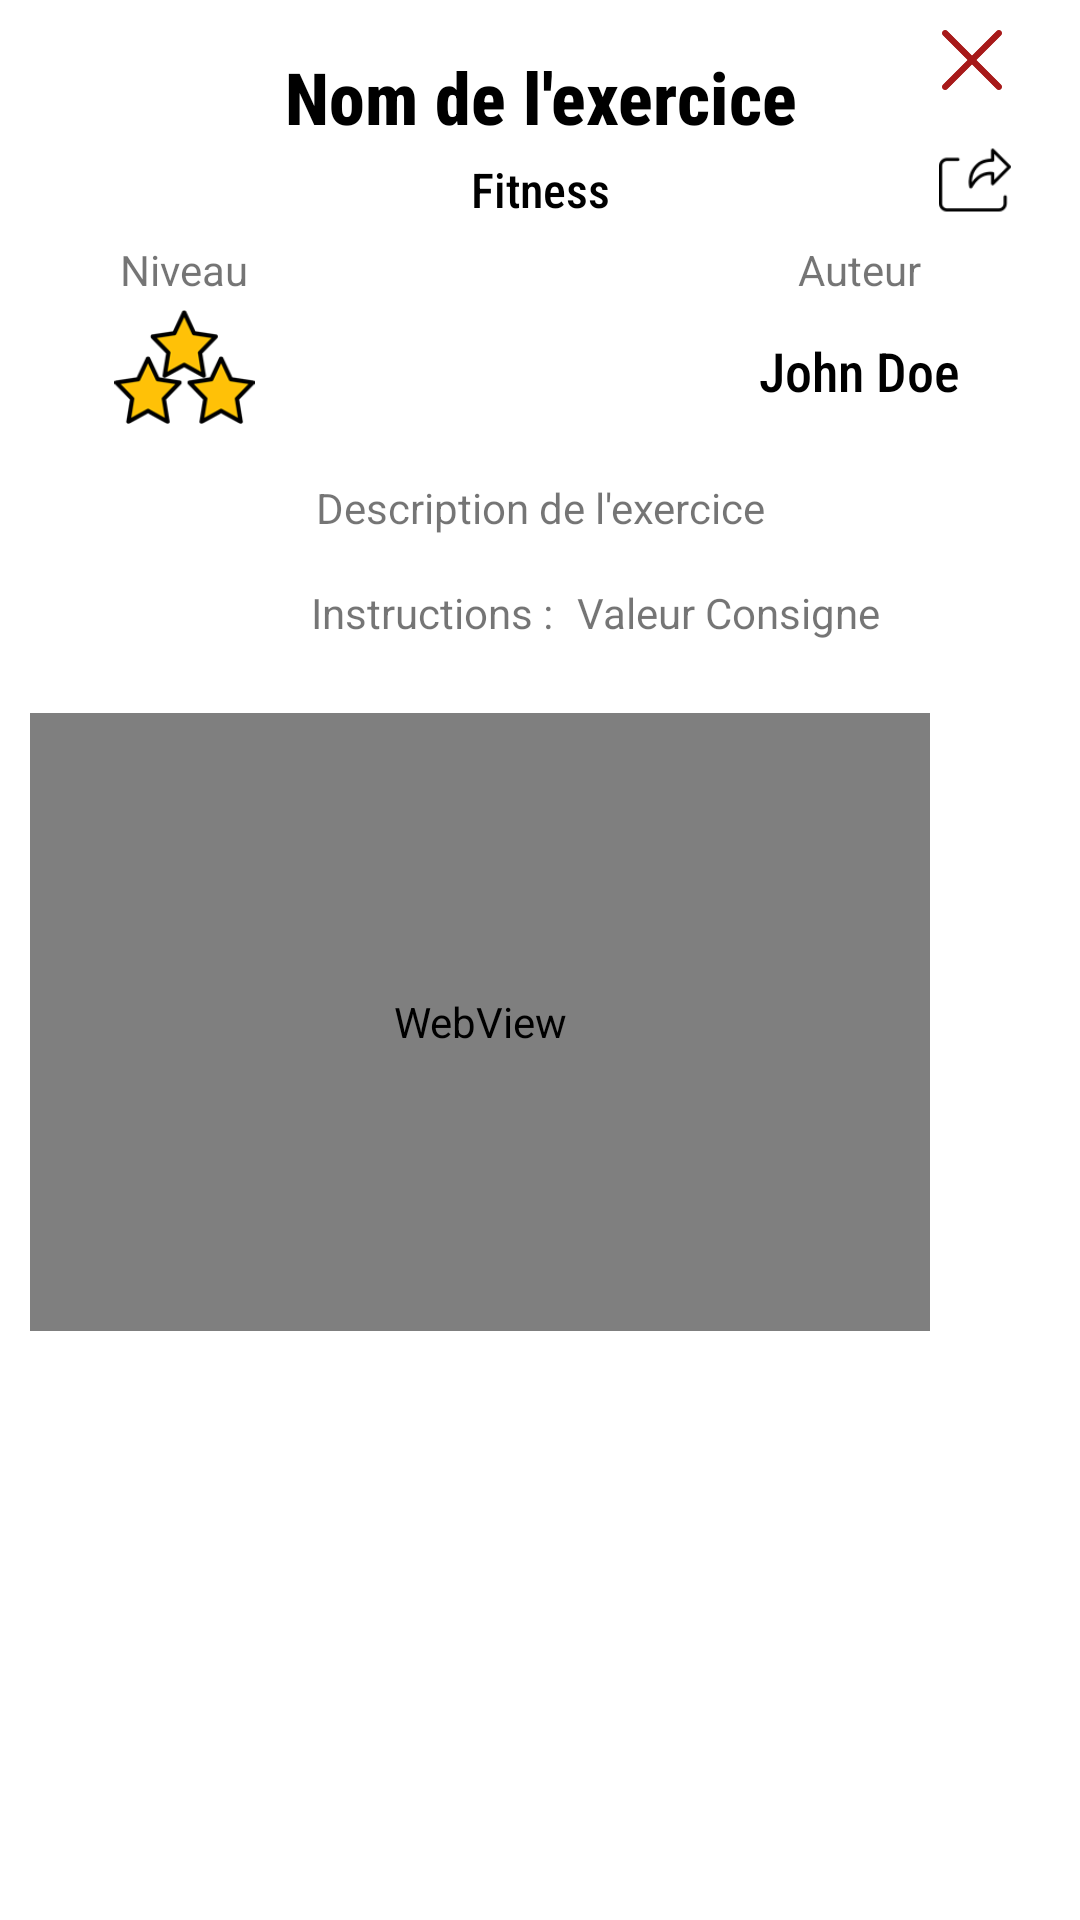

Where to tap for icons on this 1080*1920 app screen, as point (x, y):
removeexo: point (972, 60)
share: point (975, 180)
